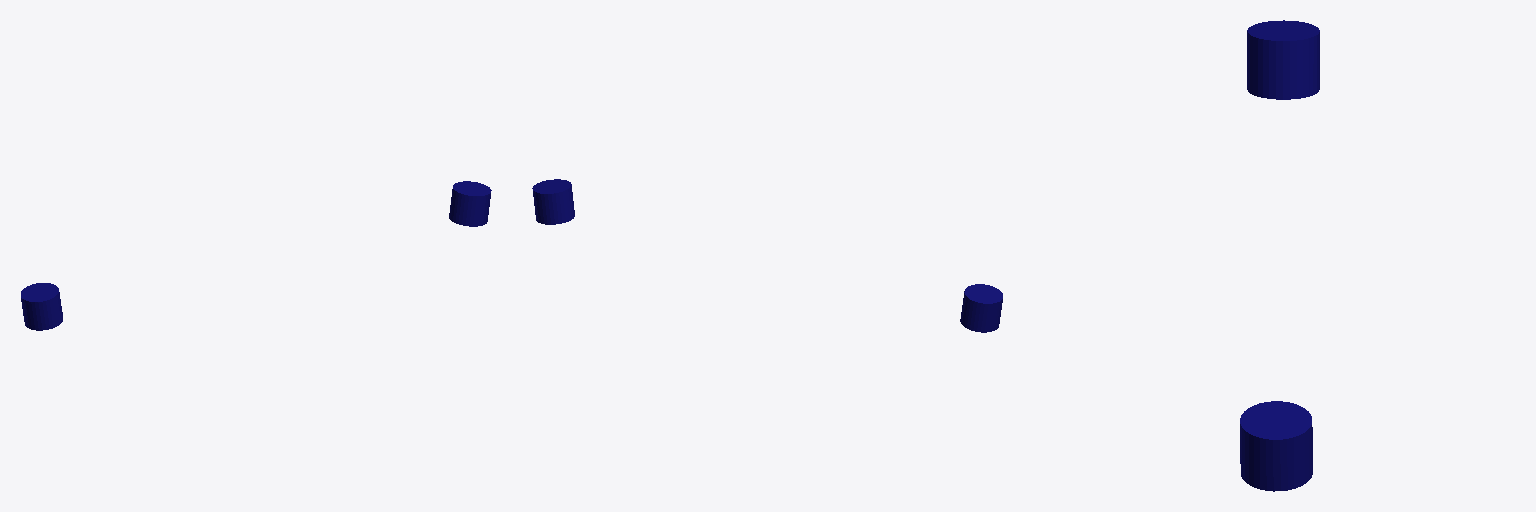
robot.urdf — lexus_rx_450h:
<?xml version="1.0" ?>
<!-- TODO: Add GPS sensor -->
<robot name="lexus_rx_450h">
  <material name="black">
    <color rgba="0.2 0.2 0.2 1"/>
  </material>
  <material name="blue">
    <color rgba="0.1 0.1 0.5 1"/>
  </material>

  <!-- base_link relates to its projection on the ground by this offset:
    <origin xyz="0 0 0.31" rpy="0 0 0"/>
  -->


  <link name="base_link">
    <visual>
      <geometry>
        <mesh filename="package://lexus_rx_450h_description/meshes/LexusRX.obj" scale="0.001 0.001 0.001"/>
      </geometry>
      <material name="black"/>
      <origin xyz="0.83 0 0.31" rpy="0 0 1.570796"/>
    </visual>
    <collision>
      <geometry>
        <box size="5.5 2.25 2"/>
      </geometry>
      <origin xyz="0.83 0 0.31" rpy="0 0 0"/>
    </collision>
    <inertial>
      <!-- TODO: Get or calculate inertia values -->
      <origin xyz="0 0 0.013" rpy="0 0 0"/>
      <mass value="0.25"/>
      <inertia ixx="0.0003350833" ixy="0" ixz="0"
        iyy="0.000560417" iyz="0"
        izz="0.000478833"/>
    </inertial>
  </link>

  <link name="lidar_front">
    <visual>
      <geometry>
        <cylinder length="0.0869" radius="0.05165"/>
      </geometry>
      <material name="blue"/>
    </visual>
    <collision>
      <geometry>
        <cylinder length="0.0869" radius="0.05165"/>
      </geometry>
    </collision>
    <inertial>
      <!-- TODO: Get or calculate inertia values -->
      <mass value="0.1"/>
      <inertia ixx="1.02083e-5" ixy="0" ixz="0"
        iyy="1.02083e-5" iyz="0"
        izz="2e-5"/>
    </inertial>
  </link>

  <joint name="lidar_front_joint" type="fixed">
    <parent link="base_link"/>
    <child link="lidar_front"/>
    <origin xyz="1.4 0 1.422" rpy="0.0215759 0.125004 0.111496"/>
  </joint>

  <link name="lidar_rear">
    <visual>
      <geometry>
        <cylinder length="0.0869" radius="0.05165"/>
      </geometry>
      <material name="blue"/>
    </visual>
    <collision>
      <geometry>
        <cylinder length="0.0869" radius="0.05165"/>
      </geometry>
    </collision>
    <inertial>
      <!-- TODO: Get or calculate inertia values -->
      <mass value="0.1"/>
      <inertia ixx="1.02083e-5" ixy="0" ixz="0"
        iyy="1.02083e-5" iyz="0"
        izz="2e-5"/>
    </inertial>
  </link>

  <joint name="lidar_rear_joint" type="fixed">
    <parent link="base_link"/>
    <child link="lidar_rear"/>
    <origin xyz="0.1 0.01 1.422" rpy="0 0.146539 3.13"/>
  </joint>
</robot>

--- Facts derived from the render (not from the file) ---
The picture shows the robot from 3 angles, left to right: view 1: azimuth 30°, elevation 25°; view 2: azimuth 150°, elevation 25°; view 3: azimuth 270°, elevation 25°; orthographic projection.
Robot: lexus_rx_450h — 3 links, 2 joints (2 fixed); root link base_link; default pose: every joint at zero.
Visible links, largest first — view 1: lidar_rear, lidar_front; view 2: lidar_rear, lidar_front; view 3: lidar_front, lidar_rear.
Link boxes in pixels (left/top/right/bottom): lidar_rear: left=21, top=283, right=62, bottom=330; lidar_front: left=449, top=181, right=491, bottom=226; lidar_rear: left=960, top=284, right=1002, bottom=332; lidar_front: left=532, top=179, right=574, bottom=224; lidar_front: left=1240, top=401, right=1312, bottom=491; lidar_rear: left=1247, top=20, right=1319, bottom=99.
Bounding box of the posed robot: 1.41 × 0.1135 × 0.1011 m (x, y, z).
Meshes: 1 distinct files referenced, 0 mesh visuals loaded (none loaded); not drawn: 1 (file found but could not be loaded).
